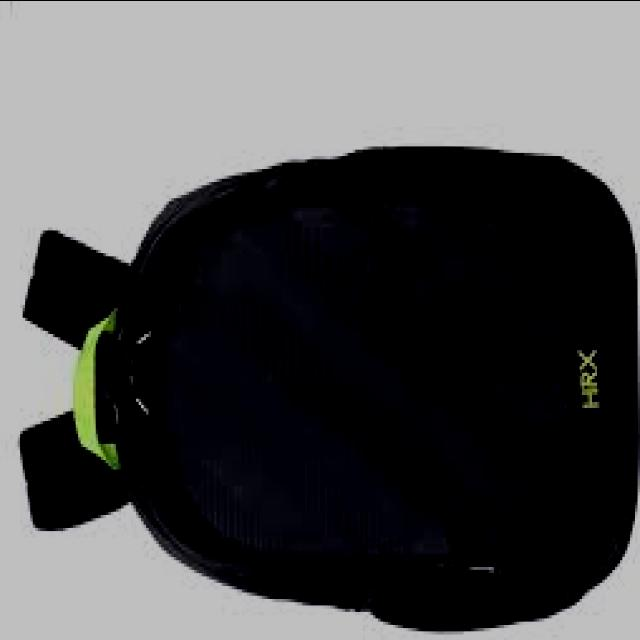backpack: (19, 147, 639, 635)
